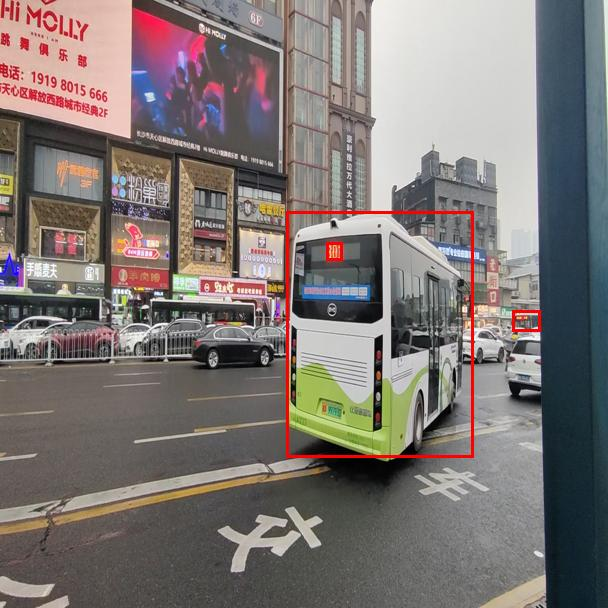bus: (286, 211, 473, 457), (512, 310, 540, 331)
screen: (326, 242, 342, 260)
